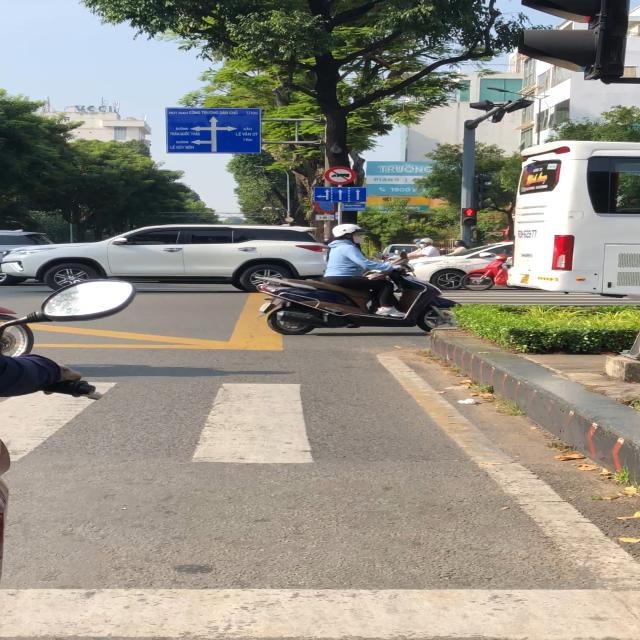Bien bao cam xe so-mi ro-mooc: (323, 165, 357, 186)
